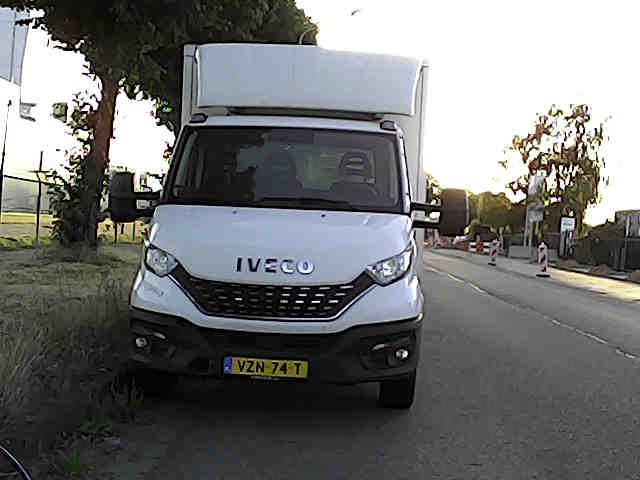whitevan: (110, 44, 467, 407)
